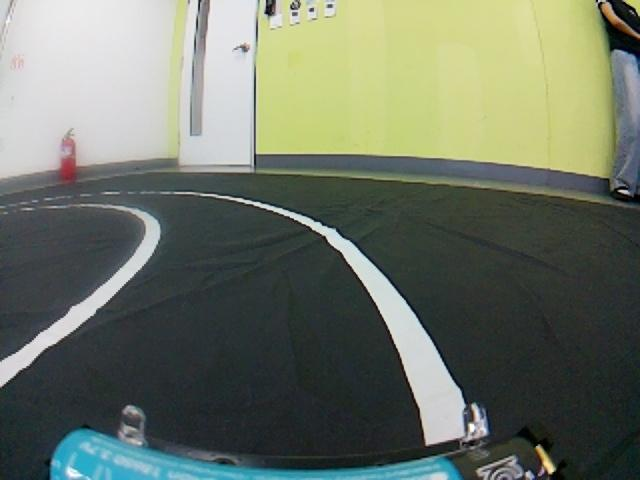left: (4, 184, 614, 479)
